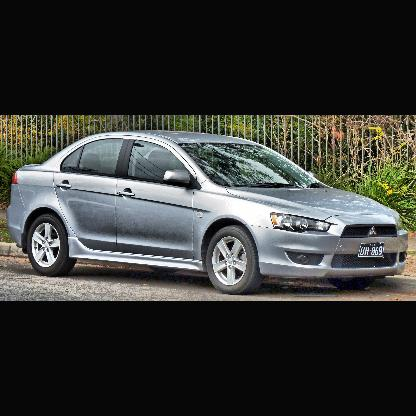Mitsubishi Lancer Sedan 2012: (5, 130, 411, 297)
